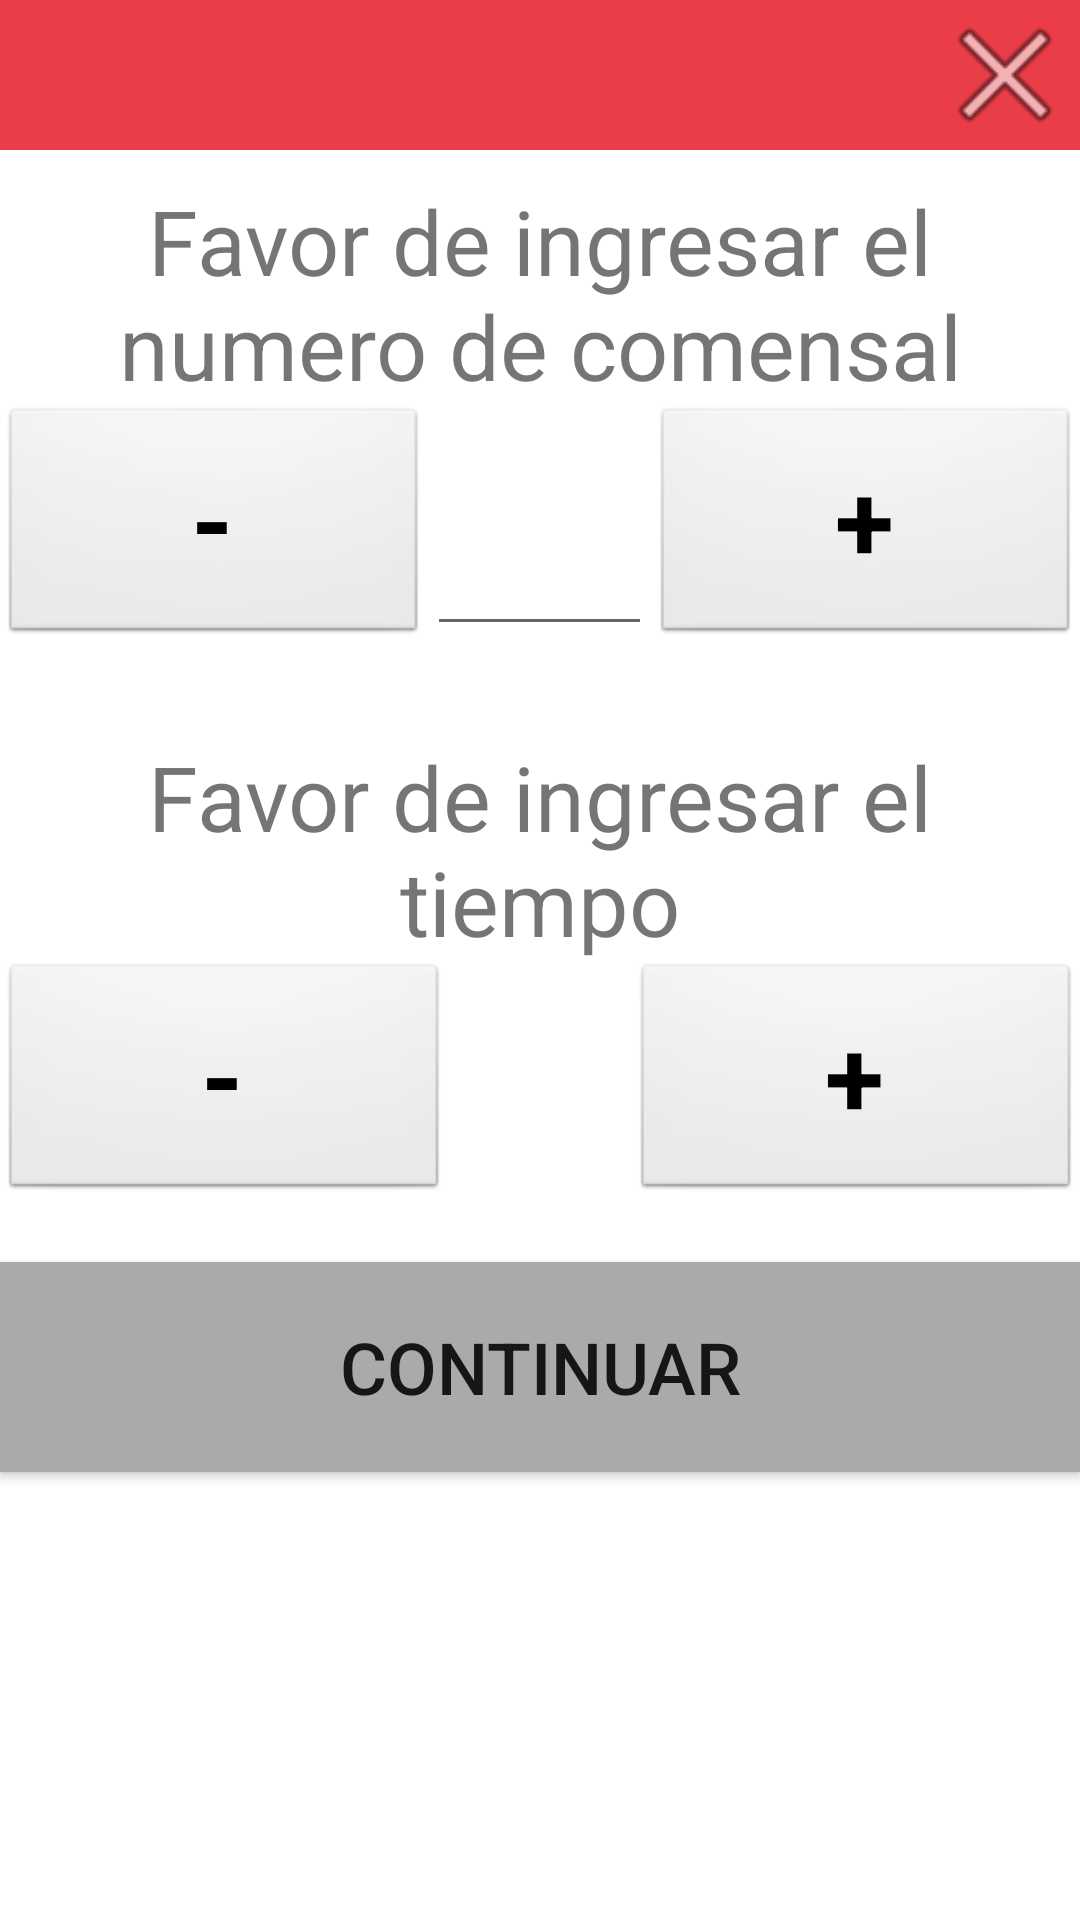

Where to tap for icons on this 1080w x 1920h app screen, as point (x, y):
close clear cancel: point (1005, 75)
